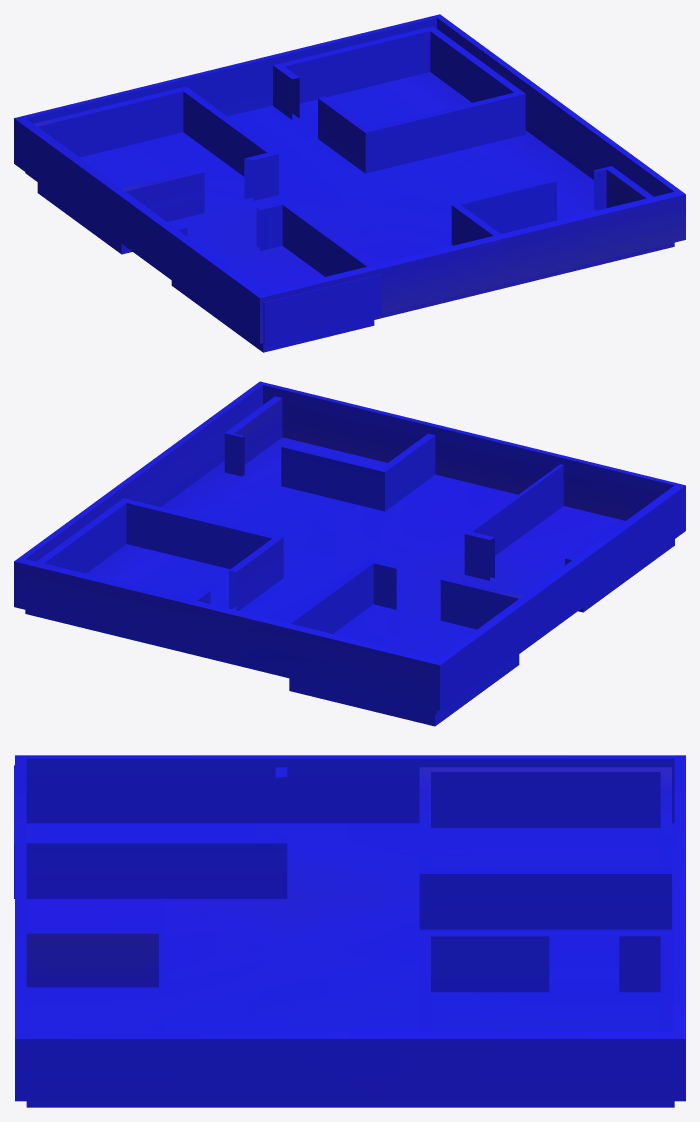
Rendered from Paredes.dae.
The picture shows the model from 3 angles, top to bottom: view 1: azimuth 30°, elevation 25°; view 2: azimuth 150°, elevation 25°; view 3: azimuth 270°, elevation 25°; orthographic projection. The views are drawn at different scales.
Visible parts, largest first — view 1: Paredes; view 2: Paredes; view 3: Paredes.
Part boxes in pixels (x1,y1,x2,y2): Paredes: (14, 14, 685, 352); Paredes: (14, 381, 685, 726); Paredes: (14, 755, 685, 1107).
Bounding box in the file's own units: 2011 × 328 × 2014.
